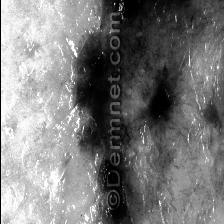Potentially Malignant Skin Tumors: (144, 74, 177, 125)
